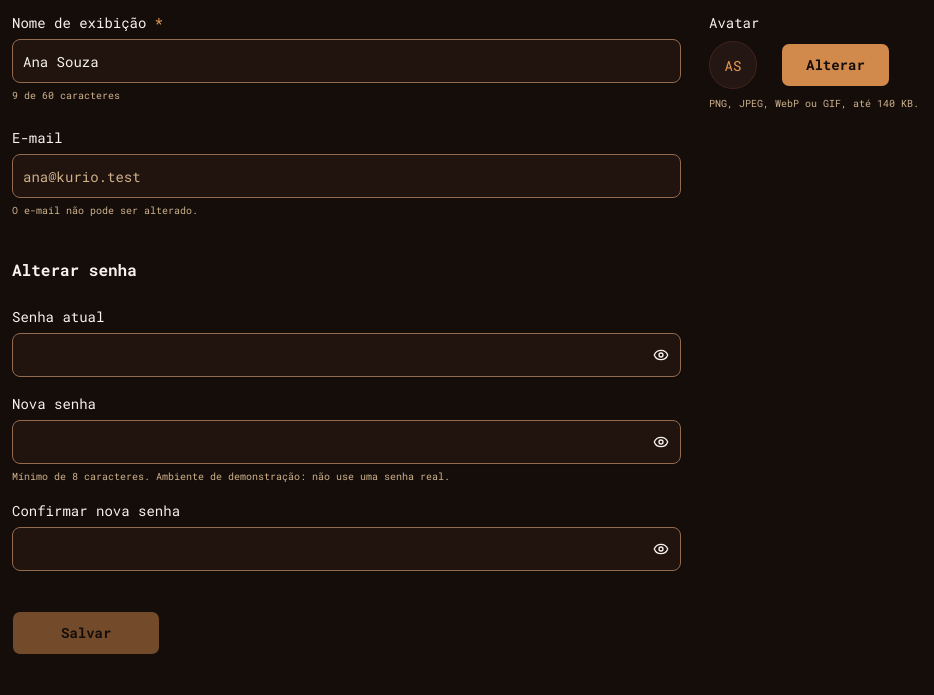
Test: ProfileForm (Perfil do colecionador, Salvar único) › "Senha atual incorreta." da API volta no campo, e o perfil enviado junto é salvo
The width and height of the screenshot is (934, 695).
Replace the text in the field labelled "Nome de exibição *" with "Ana S." at (346, 61), box [12,39,681,83]
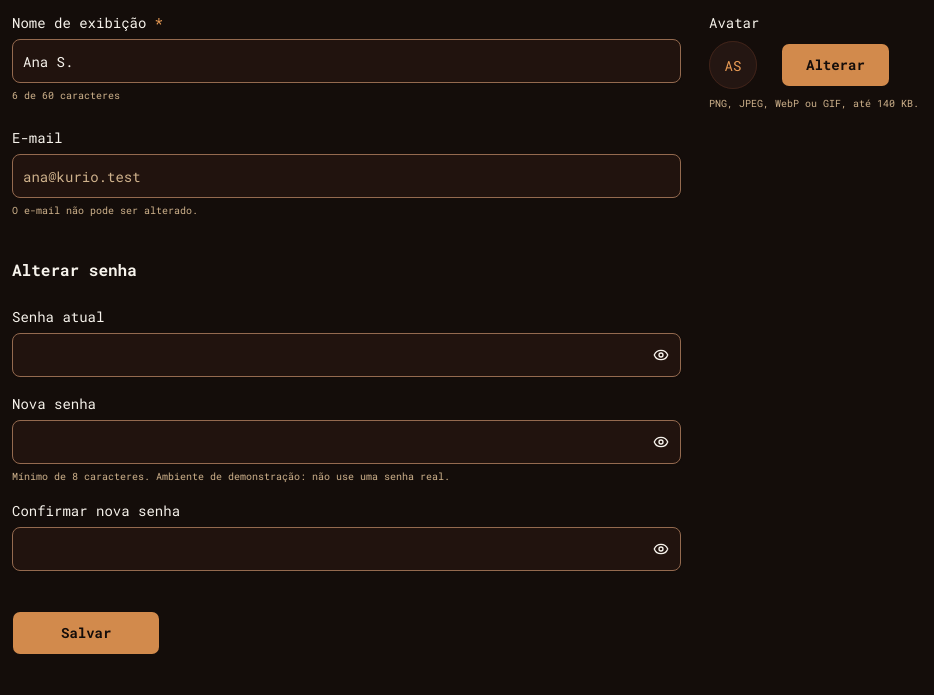
Type "errada123" into the password field labelled "Senha atual" at (346, 355), box [12,333,681,377]
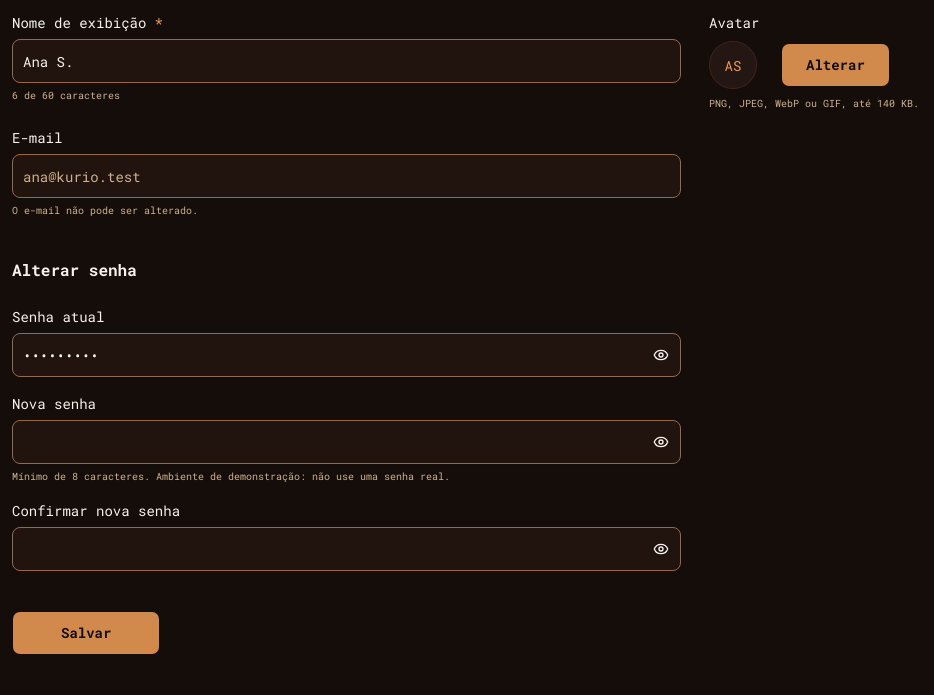
Type "NovaSenha#1" into the password field labelled "Nova senha" at (346, 442), box [12,420,681,464]
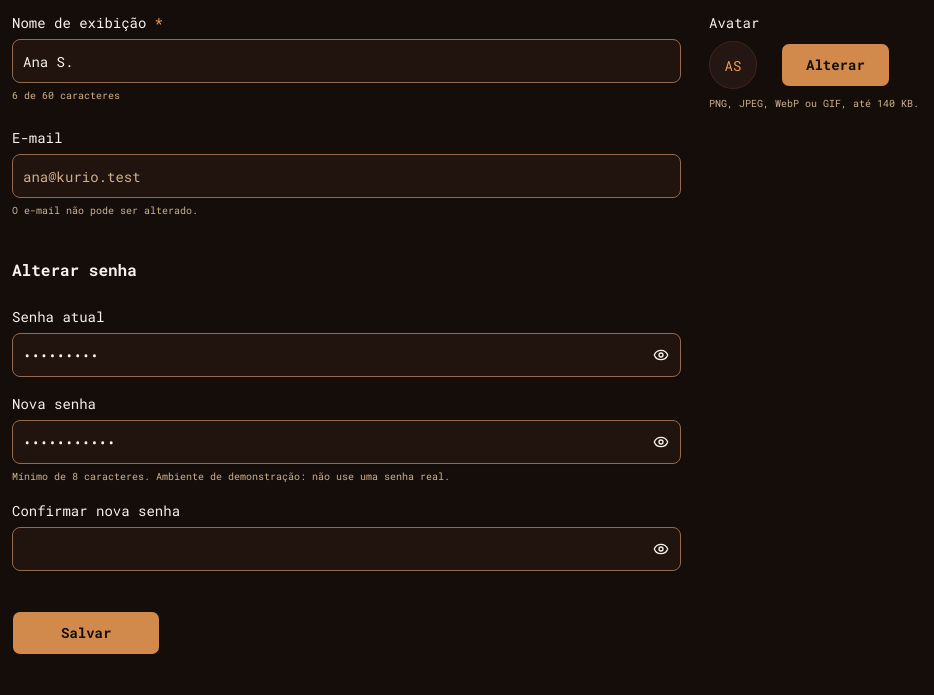
Type "NovaSenha#1" into the password field labelled "Confirmar nova senha" at (346, 549), box [12,527,681,571]
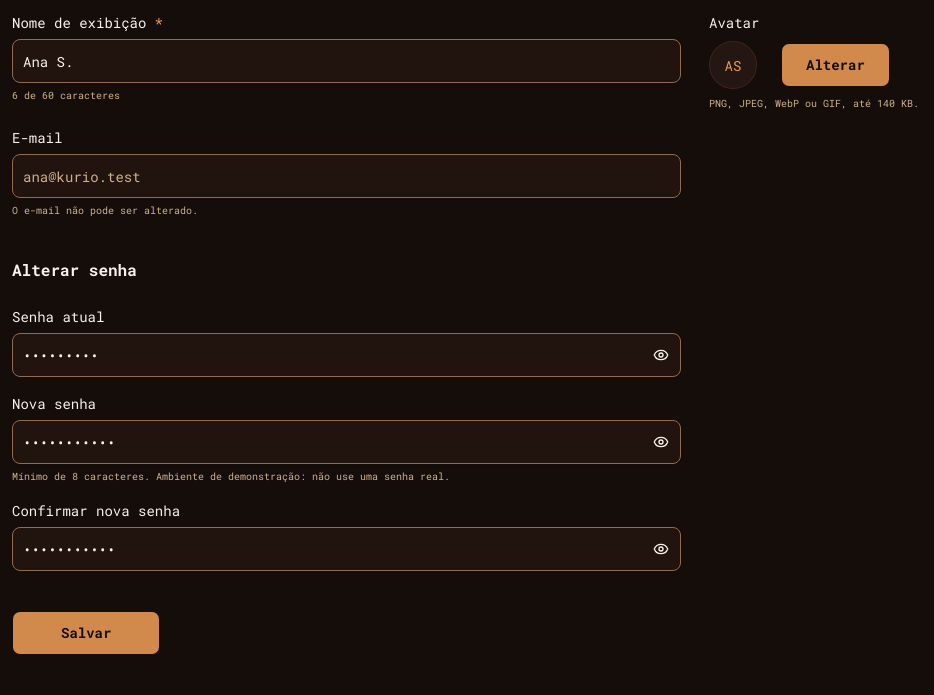
Click the button "Salvar" at (86, 633), box [12,611,160,655]
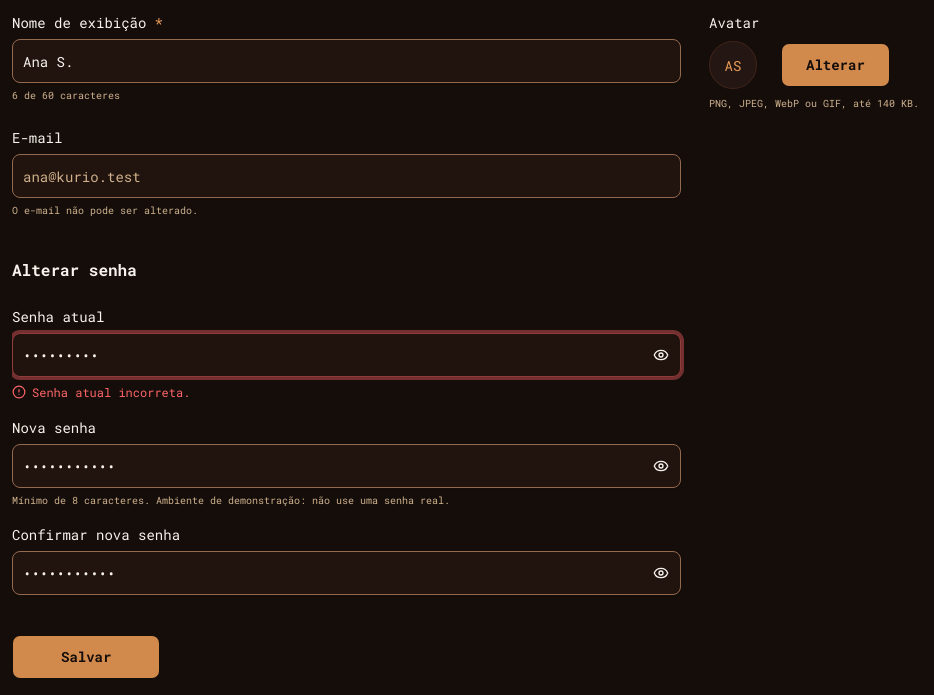
Now the text "Senha atual incorreta." is shown, box [12,384,190,400]
